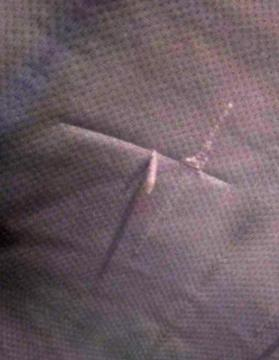snag: (124, 129, 175, 204)
